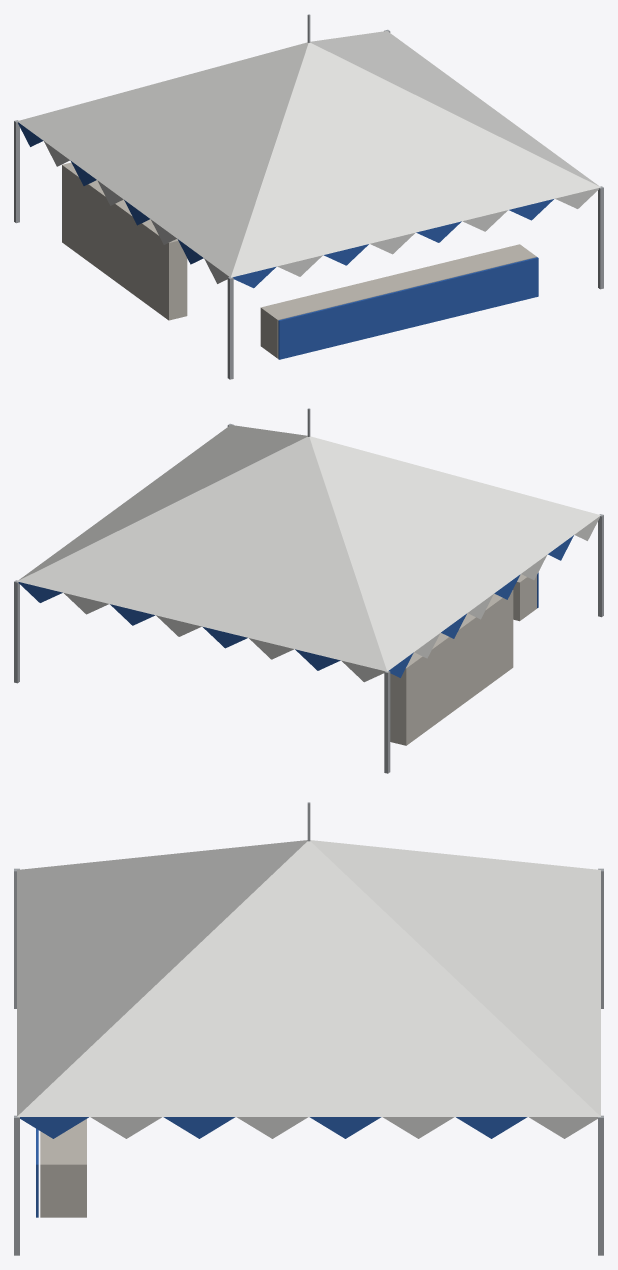
File: tenda_2.glb
The picture shows the model from 3 angles, top to bottom: view 1: azimuth 30°, elevation 25°; view 2: azimuth 150°, elevation 25°; view 3: azimuth 270°, elevation 25°; orthographic projection. The views are drawn at different scales.
Parts seen in each view (by area): view 1: br, bal, cor, aco; view 2: br, bal, cor, aco; view 3: br, bal, cor, aco.
Boxes of the visible parts, x1,y1,x2,y2 form: br: (17,31,600,283); bal: (62,162,536,358); cor: (18,122,553,359); aco: (14,14,603,379); br: (17,425,600,682); bal: (390,574,536,745); cor: (18,535,573,677); aco: (14,408,603,773); br: (17,840,600,1138); bal: (40,1119,86,1217); cor: (20,1117,527,1217); aco: (14,802,603,1255).
Size of the model in its own units: 10.1 by 6.2 by 10.1.
